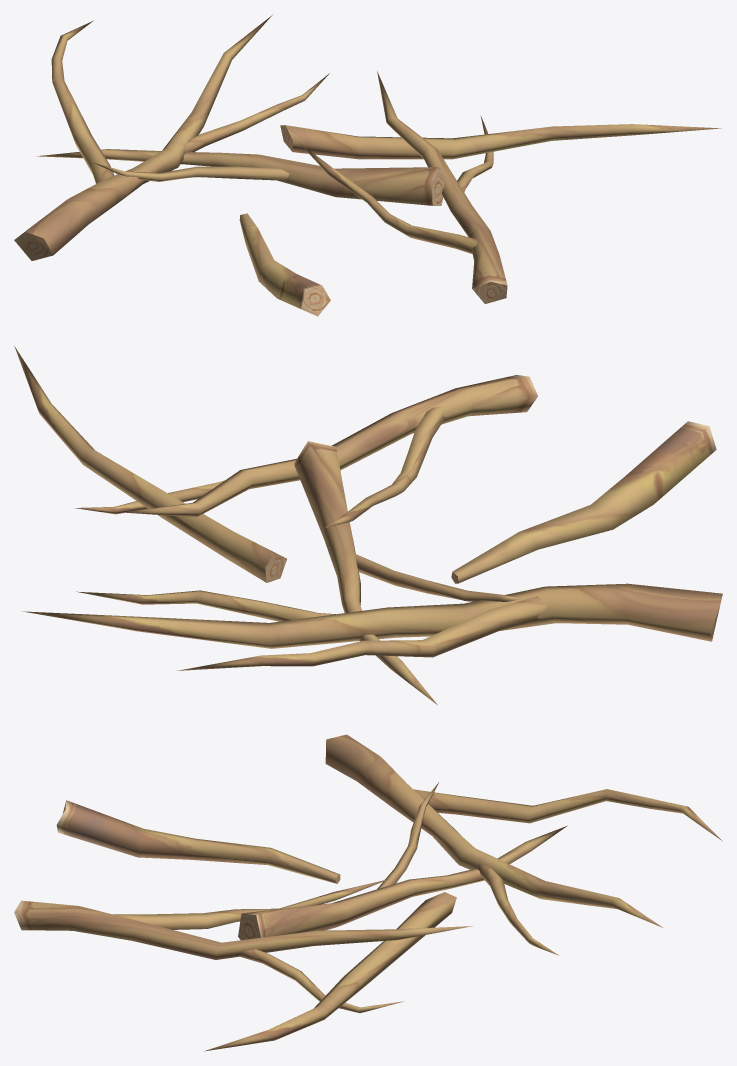
The model's file is SM_ENV_branch_ancient_02.fbx.
The picture shows the model from 3 angles, top to bottom: view 1: azimuth 30°, elevation 25°; view 2: azimuth 150°, elevation 25°; view 3: azimuth 270°, elevation 25°; orthographic projection. The views are drawn at different scales.
Parts seen in each view (by area): view 1: SM_ENV_branch_ancient_02_LOD0; view 2: SM_ENV_branch_ancient_02_LOD0; view 3: SM_ENV_branch_ancient_02_LOD0.
Boxes of the visible parts, x1,y1,x2,y2 form: SM_ENV_branch_ancient_02_LOD0: [14, 15, 721, 316]; SM_ENV_branch_ancient_02_LOD0: [14, 346, 722, 705]; SM_ENV_branch_ancient_02_LOD0: [14, 734, 722, 1051].
Size of what is drawn, in the model's own units: 133 by 13.87 by 125.
